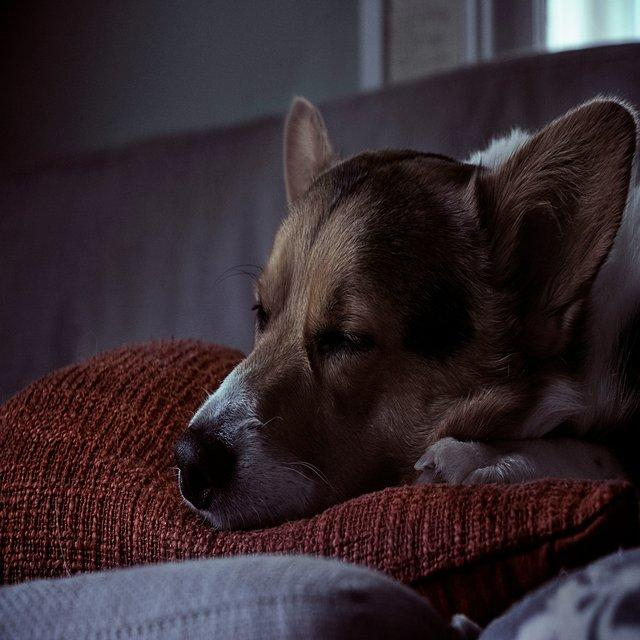corgi: (171, 89, 638, 533)
